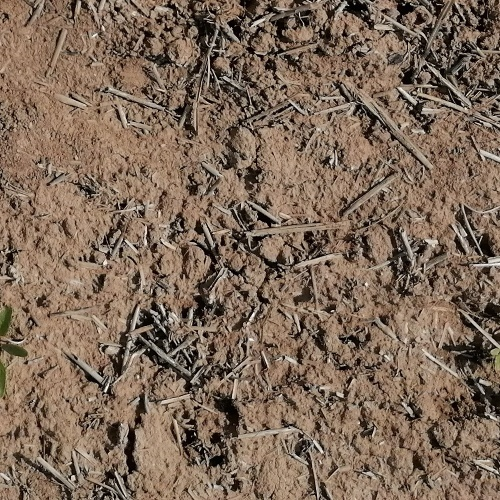beet: (0, 300, 27, 395)
